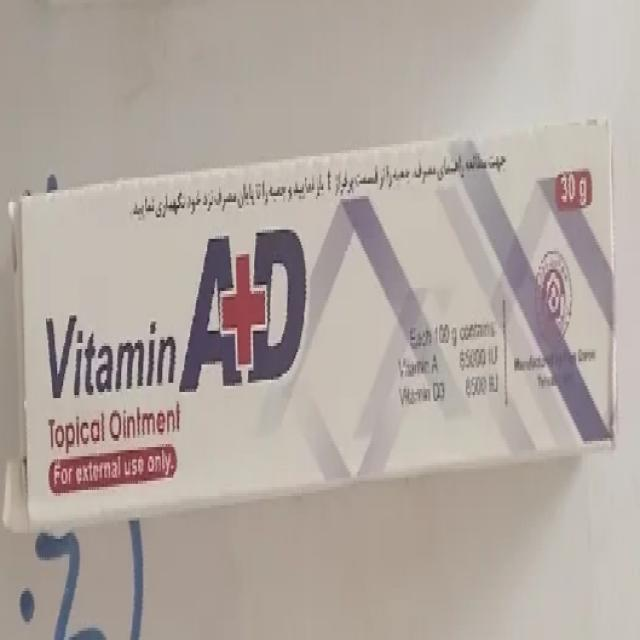drug-name: (41, 222, 320, 398)
